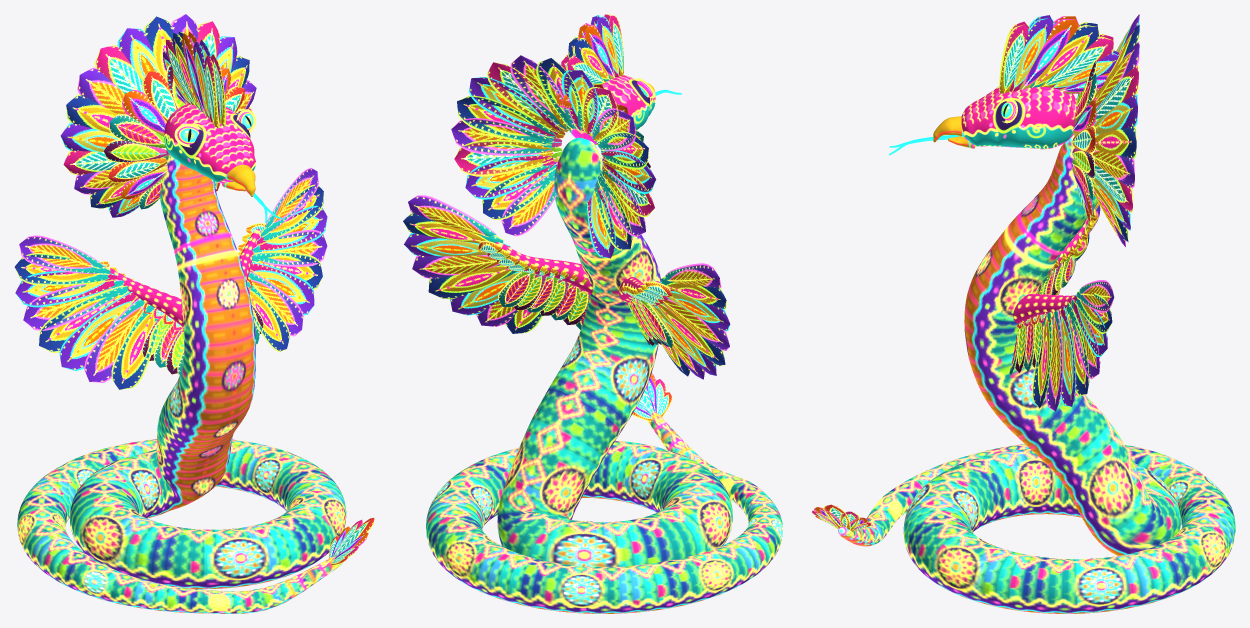
The model's file is alebrije_serpiente_hero.glb.
3 views of the same model, side by side, from view 1: azimuth 30°, elevation 25°; view 2: azimuth 150°, elevation 25°; view 3: azimuth 270°, elevation 25° (orthographic). The views are drawn at different scales.
Visible parts, largest first — view 1: alebrije_serpiente_hero; view 2: alebrije_serpiente_hero; view 3: alebrije_serpiente_hero.
Boxes of the visible parts, x1,y1,x2,y2 form: alebrije_serpiente_hero: (14,14,374,613); alebrije_serpiente_hero: (403,14,782,613); alebrije_serpiente_hero: (811,14,1235,613).
Size of the model in its own units: 0.8901 by 1.37 by 0.9786.
3 materials, 3 textured.
